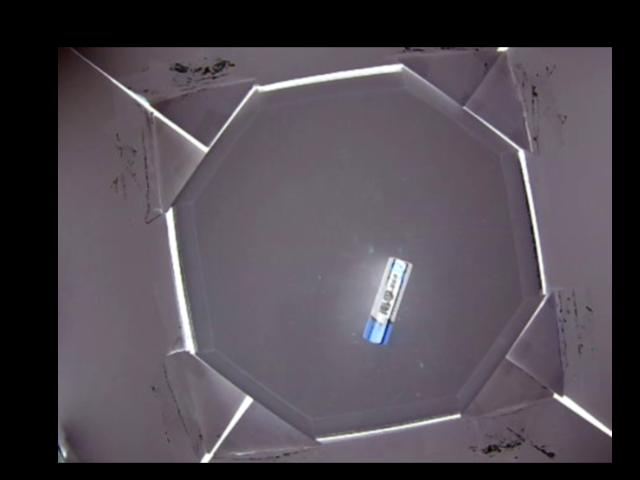Battery: (360, 256, 414, 343)
